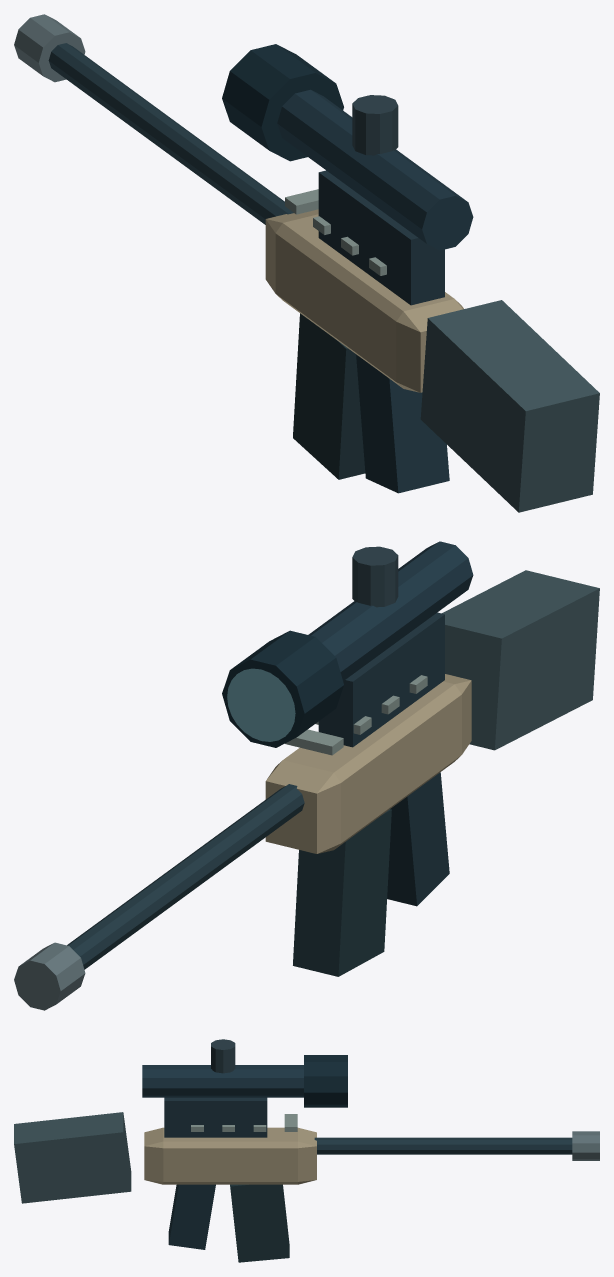
The model's file is sniper-rifle.glb.
3 views of the same model, one above another, from view 1: azimuth 30°, elevation 25°; view 2: azimuth 150°, elevation 25°; view 3: azimuth 270°, elevation 25° (orthographic). The views are drawn at different scales.
Visible parts, largest first — view 1: sniper-rifle; view 2: sniper-rifle; view 3: sniper-rifle.
Part boxes in pixels (x1,y1,x2,y2): sniper-rifle: (14, 14, 599, 512); sniper-rifle: (14, 541, 599, 1010); sniper-rifle: (14, 1039, 599, 1262).
Bounding box in the file's own units: 0.145 × 0.6364 × 1.6.
